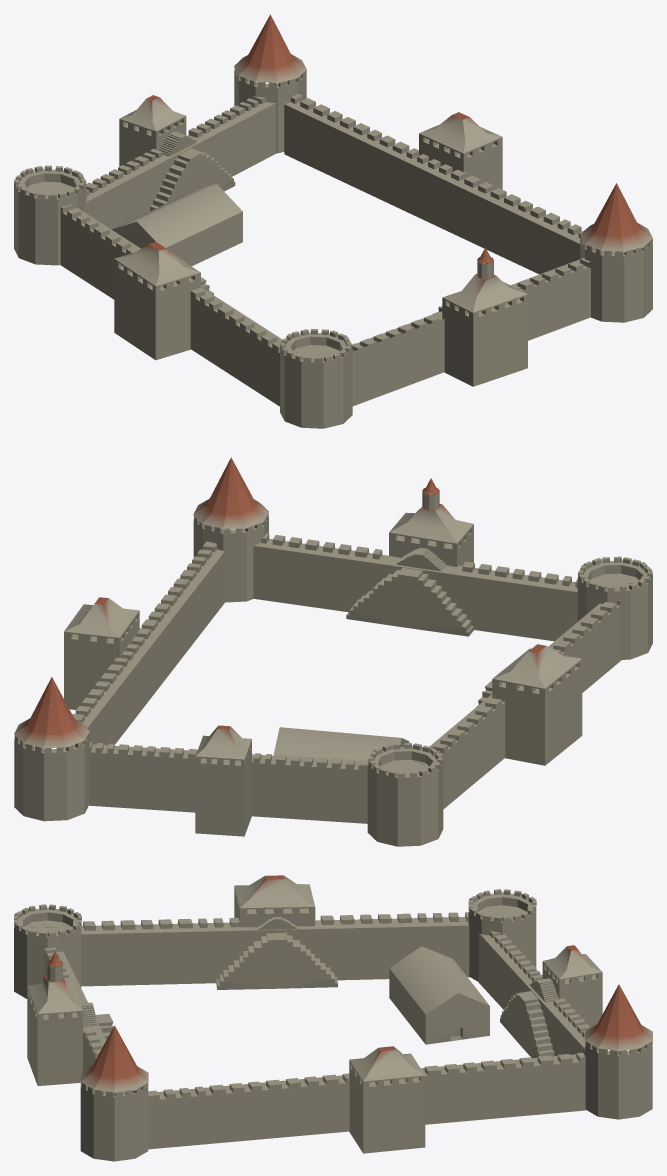
The picture shows the model from 3 angles, top to bottom: view 1: azimuth 30°, elevation 25°; view 2: azimuth 150°, elevation 25°; view 3: azimuth 270°, elevation 25°; orthographic projection. The views are drawn at different scales.
Parts seen in each view (by area): view 1: pCube124:PIV; view 2: pCube124:PIV; view 3: pCube124:PIV.
Boxes of the visible parts, x1,y1,x2,y2 form: pCube124:PIV: (14, 14, 652, 428); pCube124:PIV: (14, 457, 652, 846); pCube124:PIV: (14, 875, 652, 1161).
Bounding box in the file's own units: 7.21 × 1.99 × 9.46.
